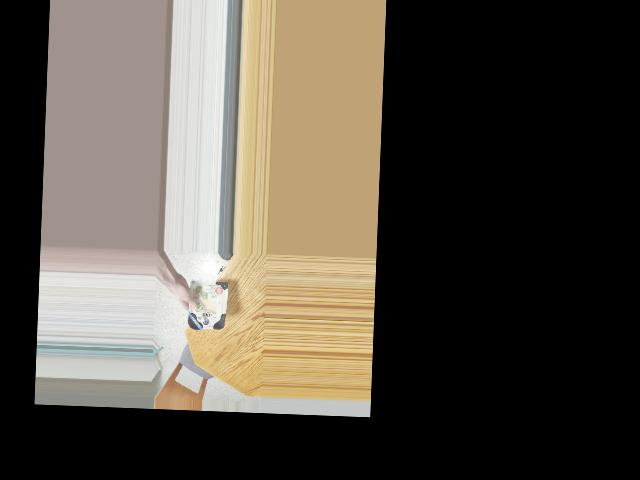cheese: (185, 269, 228, 342)
